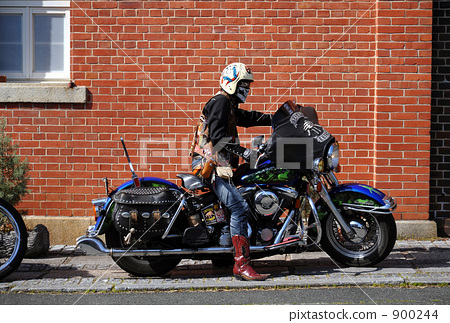helmet: (213, 63, 263, 102)
